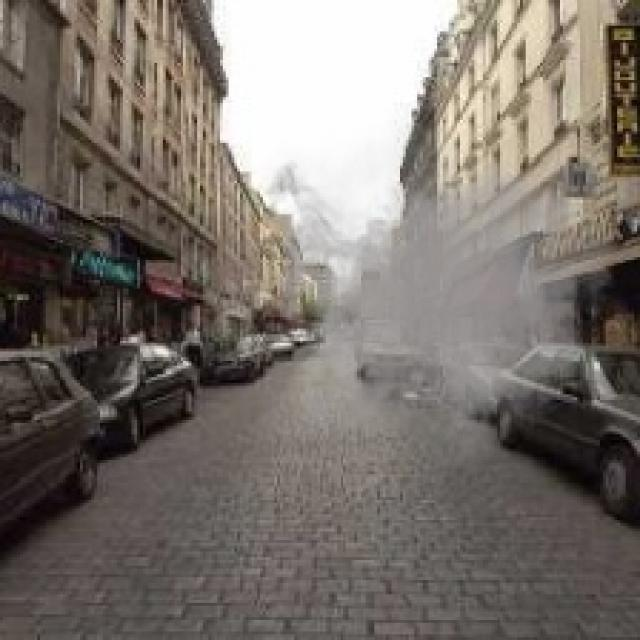Smoke: (254, 106, 623, 483)
